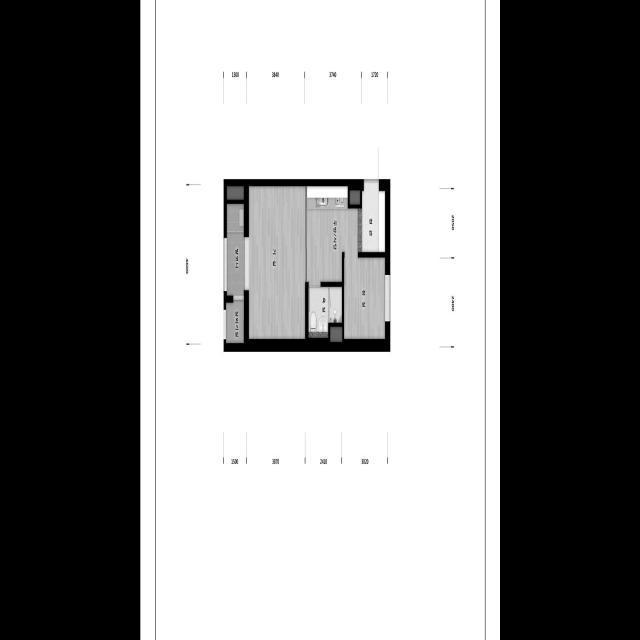background: (140, 0, 500, 640)
space_balconi: (226, 204, 245, 296)
space_bedroom: (344, 258, 385, 339)
space_front: (357, 183, 385, 252)
space_kitchen: (307, 186, 357, 282)
space_living_room: (249, 186, 305, 339)
space_other: (226, 186, 244, 200), (330, 327, 342, 342), (349, 190, 360, 205)
space_outdoor_room: (226, 300, 244, 343)
space_toilet: (308, 287, 342, 338)
